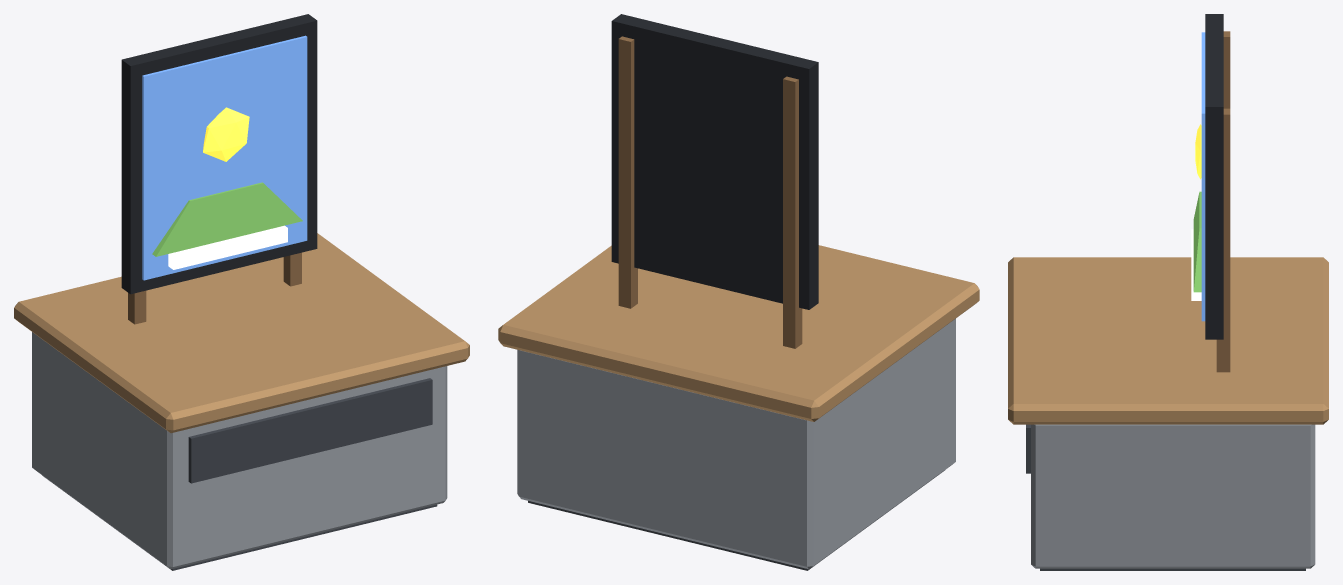
Rendered from poster_1.glb.
The picture shows the model from 3 angles, left to right: view 1: azimuth 30°, elevation 25°; view 2: azimuth 150°, elevation 25°; view 3: azimuth 270°, elevation 25°; orthographic projection. The views are drawn at different scales.
Visible parts, largest first — view 1: poster_1_mesh_Desk, poster_1_mesh; view 2: poster_1_mesh_Desk, poster_1_mesh; view 3: poster_1_mesh_Desk, poster_1_mesh.
Boxes of the visible parts, box(x1,y1,x2,y2) form: poster_1_mesh_Desk: box(14, 233, 469, 570); poster_1_mesh: box(121, 14, 317, 324); poster_1_mesh_Desk: box(498, 245, 979, 570); poster_1_mesh: box(611, 14, 818, 348); poster_1_mesh_Desk: box(1008, 257, 1328, 570); poster_1_mesh: box(1191, 14, 1230, 372).
Size of the model in its own units: 0.78 by 1.07 by 0.7.
